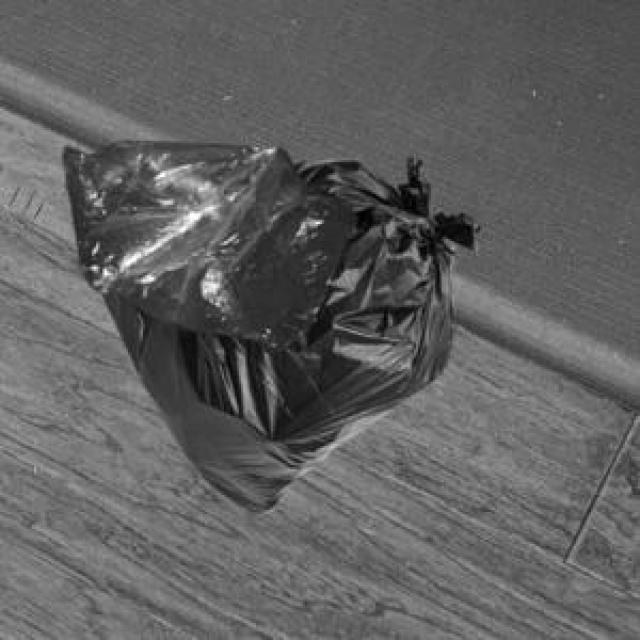miscellaneous trash: (98, 154, 478, 510)
